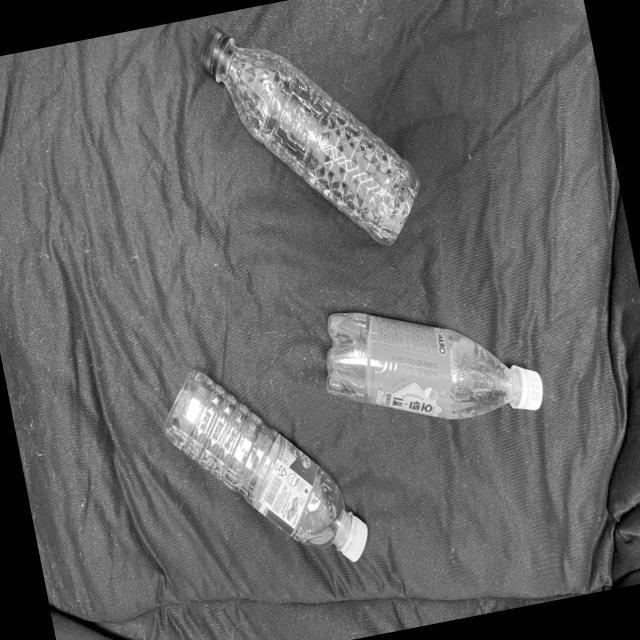good: (185, 15, 438, 261), (150, 352, 383, 582), (318, 302, 550, 435)
